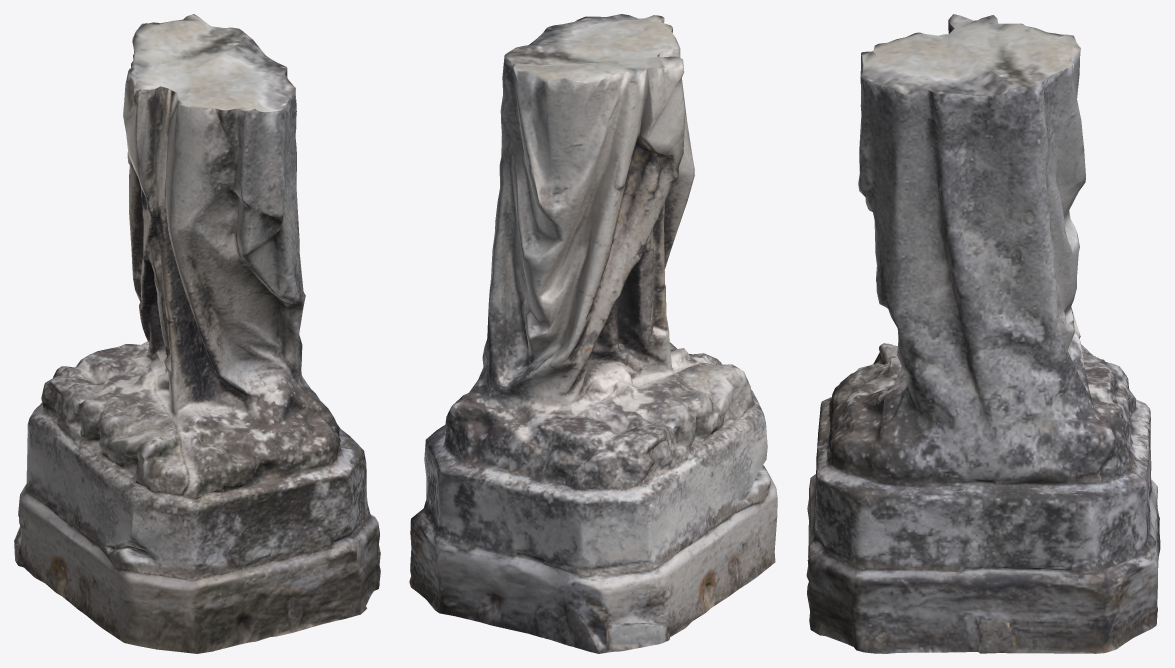
The model's file is sm_GraveSculpture_08_06.fbx.
3 views of the same model, side by side, from view 1: azimuth 30°, elevation 25°; view 2: azimuth 150°, elevation 25°; view 3: azimuth 270°, elevation 25° (orthographic). The views are drawn at different scales.
Visible parts, largest first — view 1: sm_GraveSculpture_08_06_LOD0; view 2: sm_GraveSculpture_08_06_LOD0; view 3: sm_GraveSculpture_08_06_LOD0.
Boxes of the visible parts, bbox=[...] form: sm_GraveSculpture_08_06_LOD0: bbox=[14, 14, 380, 653]; sm_GraveSculpture_08_06_LOD0: bbox=[409, 14, 777, 653]; sm_GraveSculpture_08_06_LOD0: bbox=[806, 14, 1160, 653].
Size of the model in its own units: 61.08 by 70.02 by 119.
